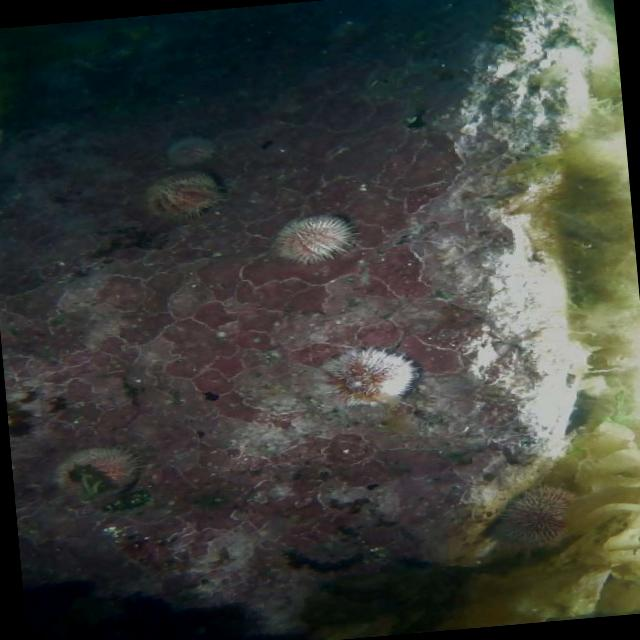Deniz Kestanesi: (311, 340, 424, 409), (482, 480, 586, 554), (52, 440, 150, 497), (270, 209, 366, 266), (142, 166, 230, 224), (166, 133, 216, 163)
